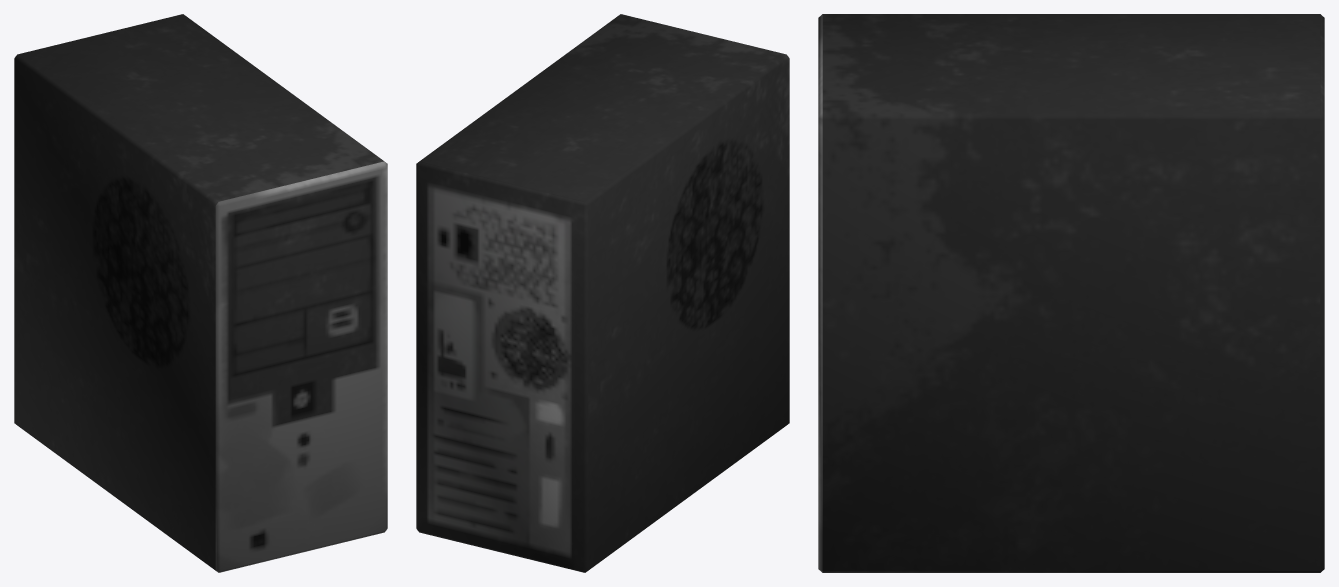
Rendered from PC_Asset.fbx.
3 views of the same model, side by side, from view 1: azimuth 30°, elevation 25°; view 2: azimuth 150°, elevation 25°; view 3: azimuth 270°, elevation 25° (orthographic). The views are drawn at different scales.
Parts seen in each view (by area): view 1: Pc; view 2: Pc; view 3: Pc.
Part boxes in pixels (x1,y1,x2,y2): Pc: [14, 14, 387, 572]; Pc: [416, 14, 789, 572]; Pc: [818, 14, 1324, 572].
Size of the model in its own units: 21.6 by 44.6 by 44.6.
Materials: 1 (1 with a texture image).
